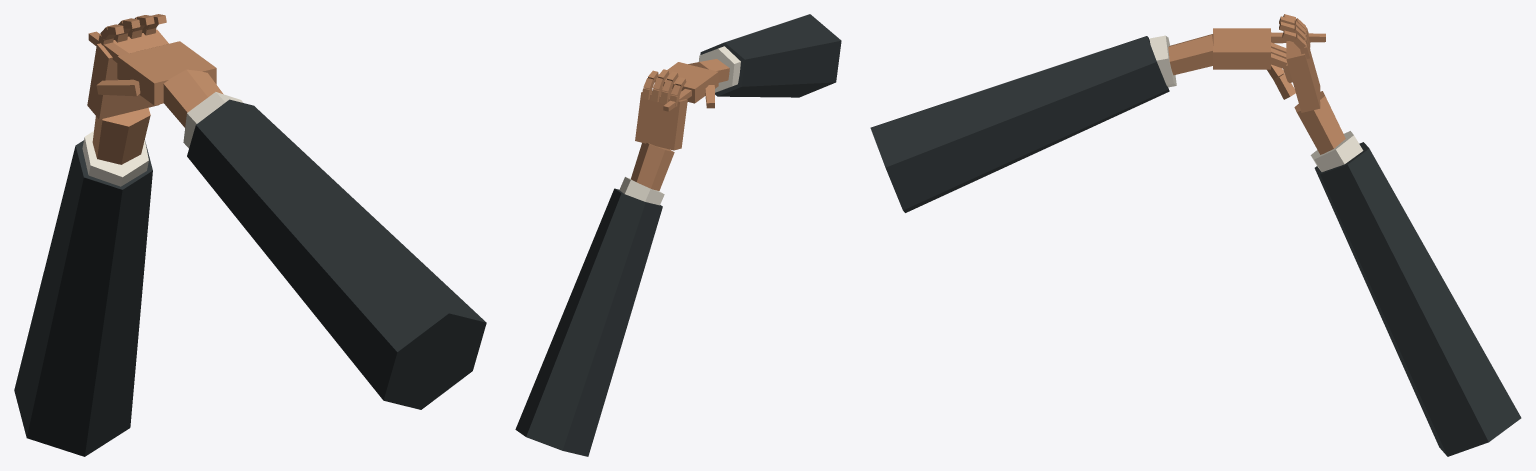
The model's file is hands.glb.
The picture shows the model from 3 angles, left to right: view 1: azimuth 30°, elevation 25°; view 2: azimuth 150°, elevation 25°; view 3: azimuth 270°, elevation 25°; orthographic projection. The views are drawn at different scales.
Parts seen in each view (by area): view 1: hand_right, hand_left; view 2: hand_left, hand_right; view 3: hand_left, hand_right.
Boxes of the visible parts, bbox=[...] form: hand_right: bbox=[88, 31, 486, 409]; hand_left: bbox=[14, 14, 168, 456]; hand_left: bbox=[515, 69, 687, 456]; hand_right: bbox=[654, 14, 841, 111]; hand_left: bbox=[1267, 14, 1521, 456]; hand_right: bbox=[870, 28, 1325, 212].
Bounding box in the file's own units: 0.2326 × 0.7029 × 1.01.
